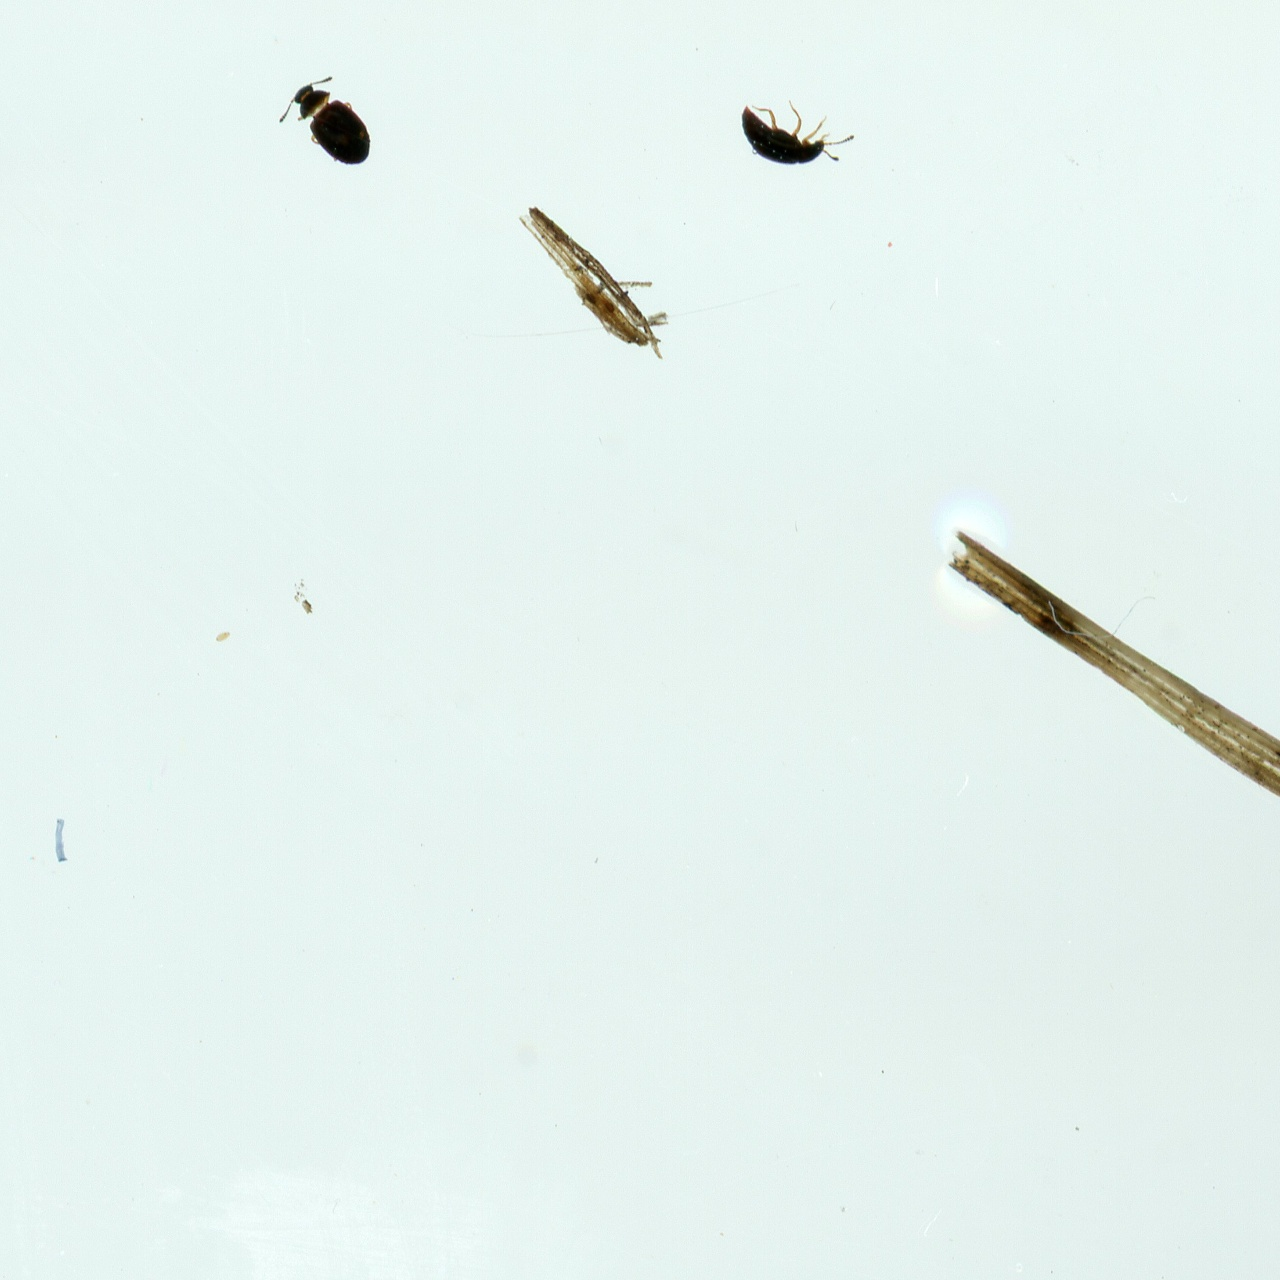arthropod: (730, 93, 863, 180), (276, 73, 384, 168)
